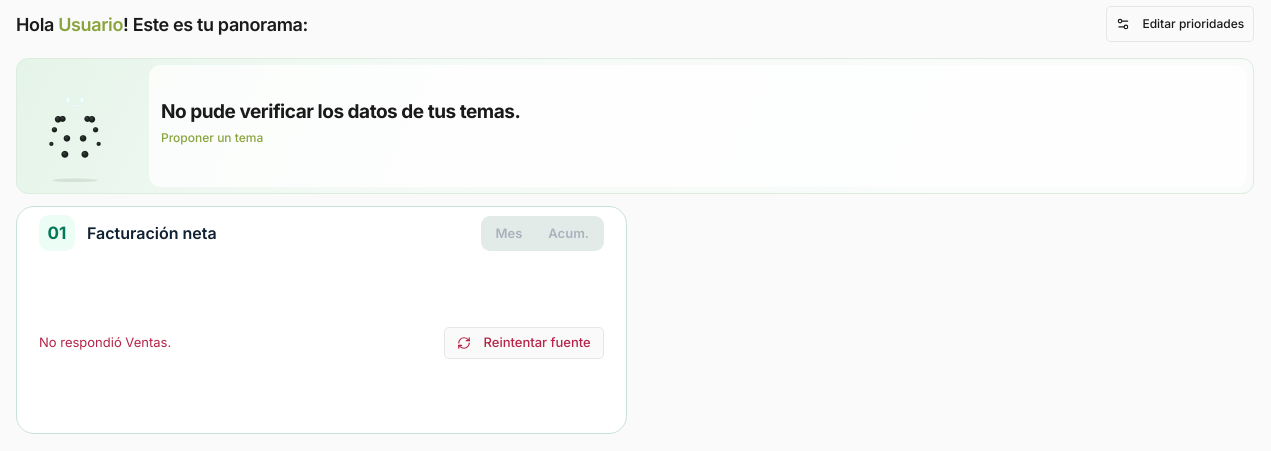
Test: Campi alternative story dashboard › shows source errors with retry and never substitutes zero
This screenshot has width=1271, height=451.
Expected: the message shows "No respondió Ventas.", x1=39 y1=334 x2=171 y2=350
Click the button "Reintentar fuente" at [524, 343], box x1=444 y1=327 x2=604 y2=359
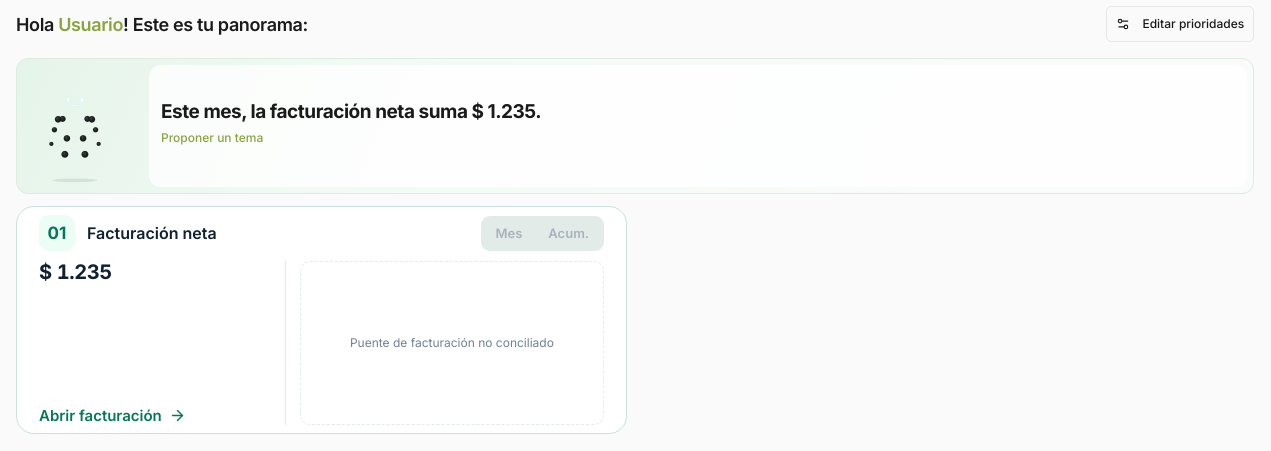
Now the text "$ 1.235" is shown, box x1=39 y1=261 x2=112 y2=284
